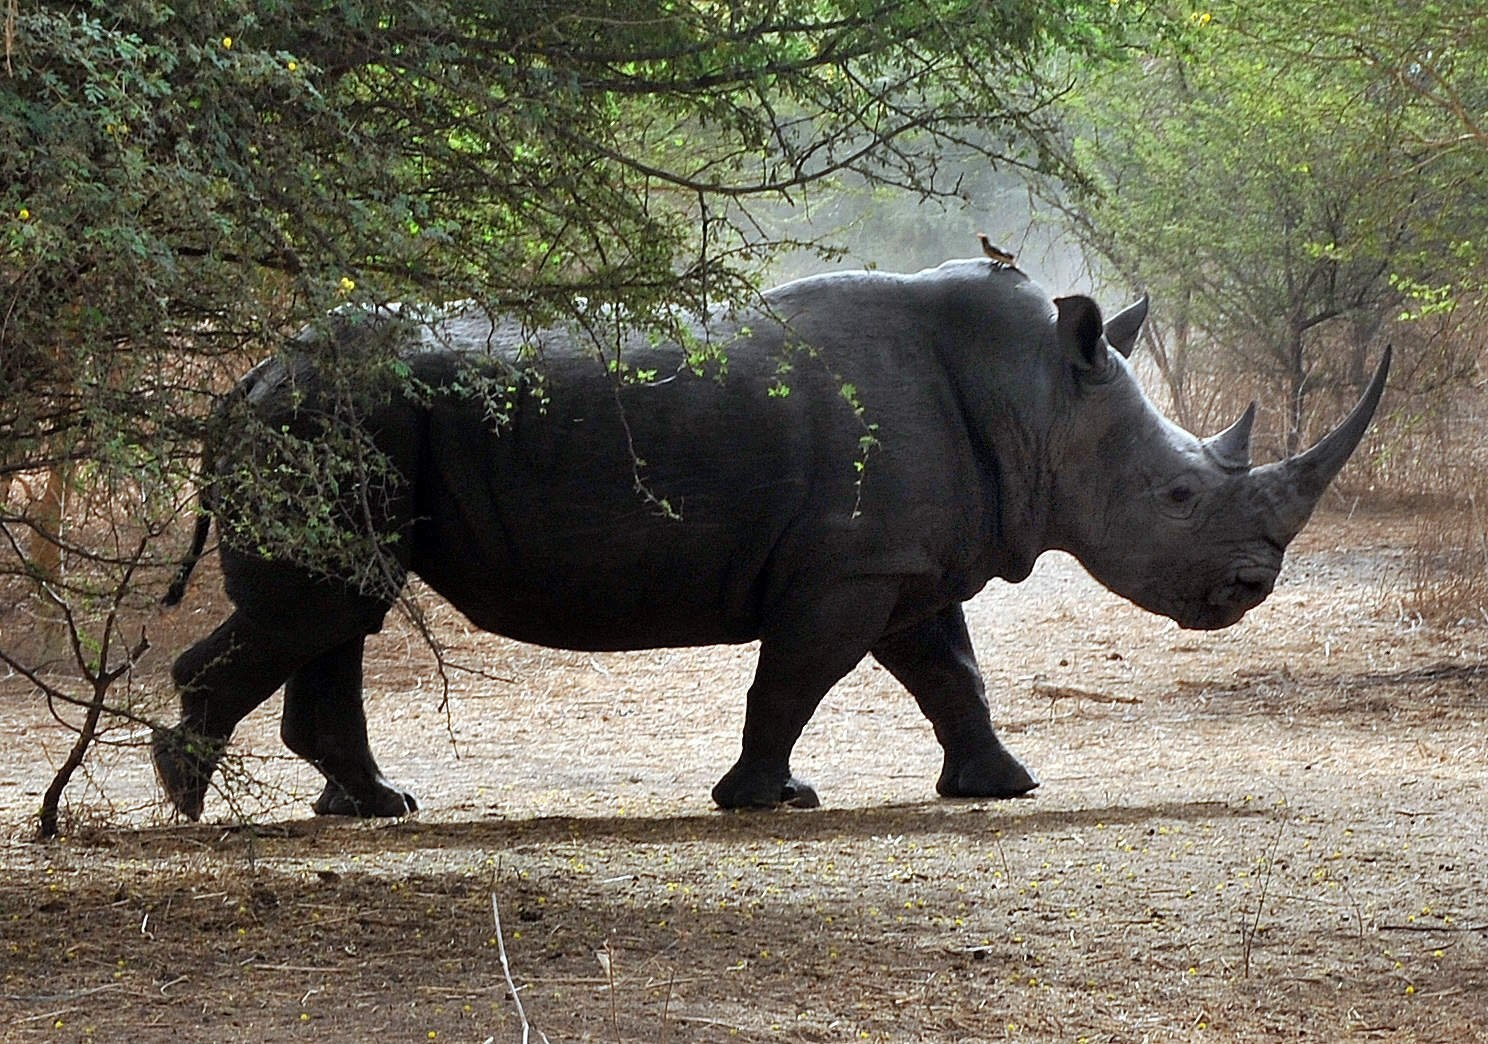rhino: (146, 257, 1394, 821)
